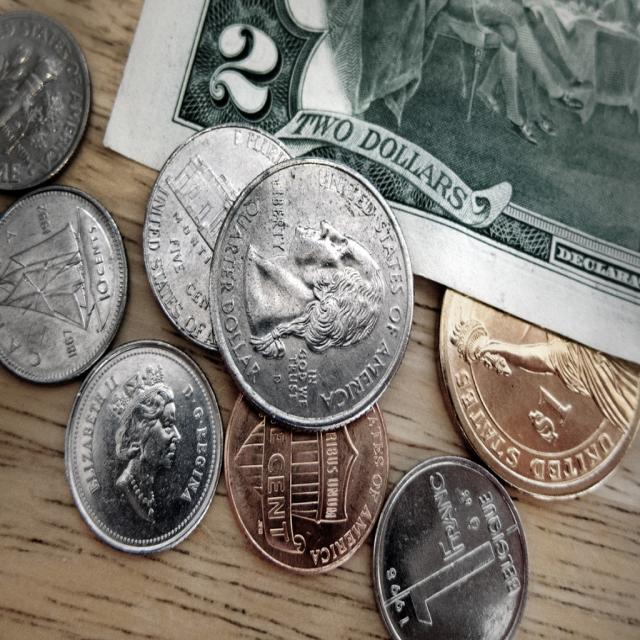Coin: (206, 156, 416, 433), (434, 287, 640, 501), (137, 123, 292, 350), (61, 342, 223, 555), (221, 388, 392, 576), (373, 455, 529, 639), (0, 183, 129, 386), (0, 11, 93, 194)
